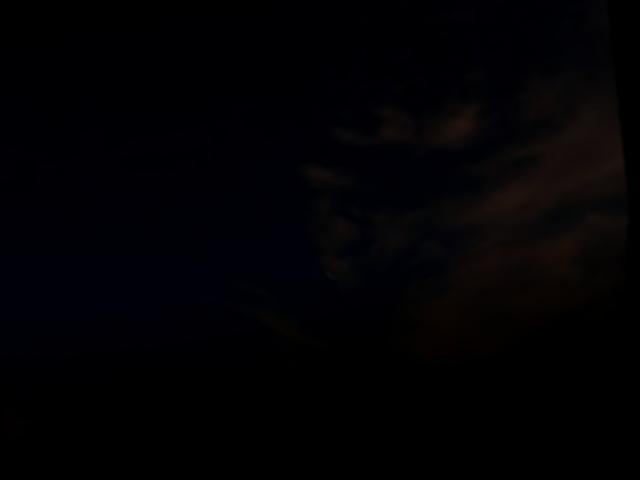iha: (326, 268, 339, 282)
